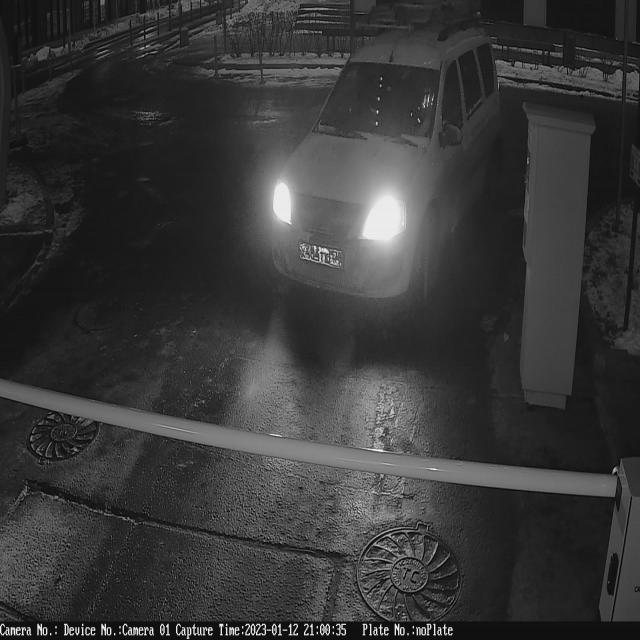car-plate-numbers: (298, 241, 347, 274)
